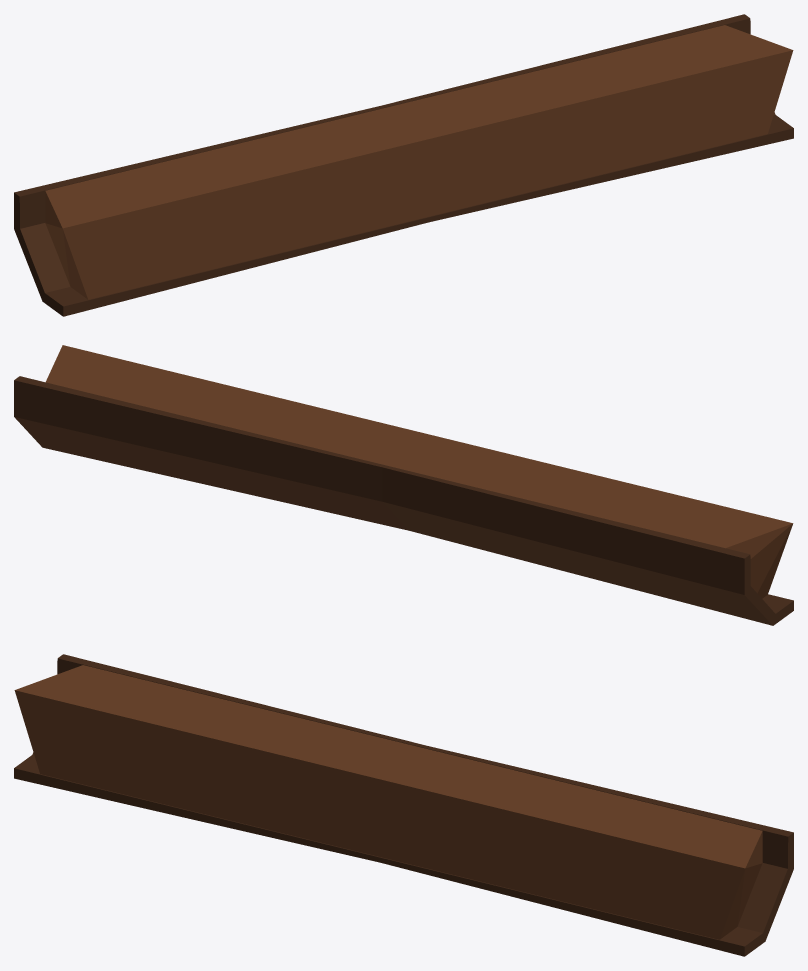
Rendered from Log_3_Dark_Brown.fbx.
The picture shows the model from 3 angles, top to bottom: view 1: azimuth 30°, elevation 25°; view 2: azimuth 150°, elevation 25°; view 3: azimuth 330°, elevation 25°; orthographic projection.
Parts seen in each view (by area): view 1: Log_3_Dark_Brown; view 2: Log_3_Dark_Brown; view 3: Log_3_Dark_Brown.
Boxes of the visible parts, box(x1,y1,x2,y2) form: Log_3_Dark_Brown: box(14, 14, 793, 316); Log_3_Dark_Brown: box(14, 345, 793, 625); Log_3_Dark_Brown: box(14, 654, 793, 956).
Size of the model in its own units: 200 by 23.09 by 23.37.
